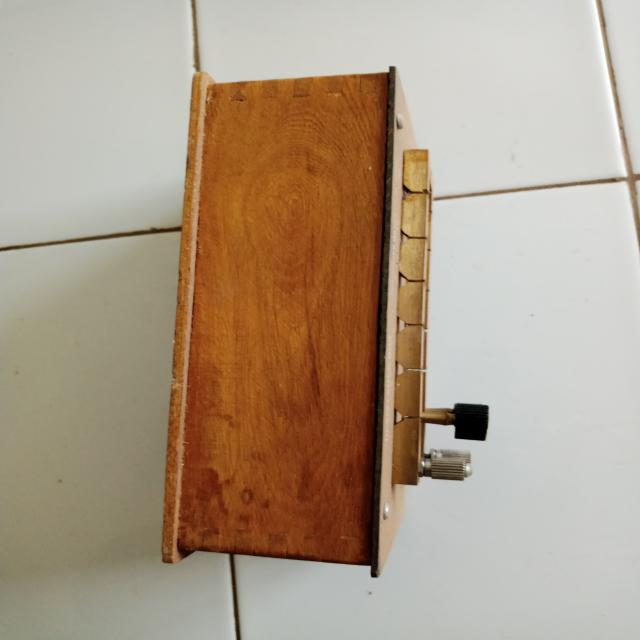Pinned Resistance Box: (141, 43, 498, 584)
